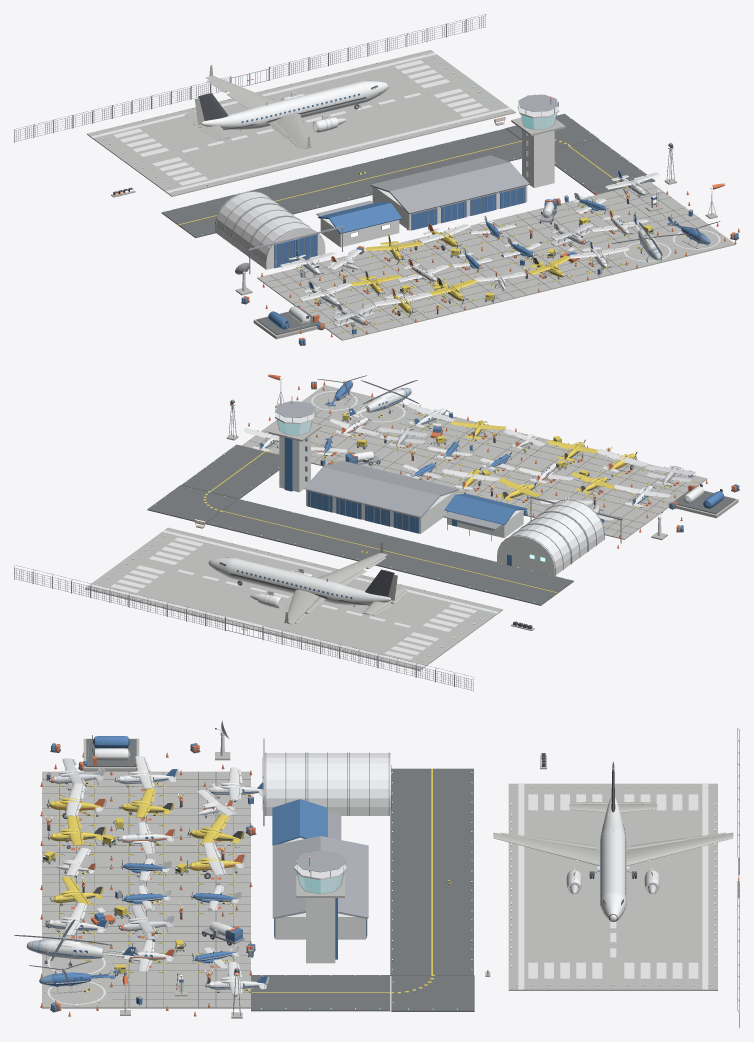
File: aircraft-fleet-and-airfield-working-airf-78cd49ec-starter-scene.glb
3 renders of one model, top to bottom at view 1: azimuth 30°, elevation 25°; view 2: azimuth 150°, elevation 25°; view 3: azimuth 270°, elevation 25°, orthographic. The views are drawn at different scales.
Visible parts, largest first — view 1: 046-t-hangar-row/1, 096-narrowbody-twinjet/0, 001-runway-slab/0, 005-runway-slab/0, 000-runway-threshold/0, 006-runway-threshold/0, 004-runway-slab/0, 002-runway-slab/0, 047-control-tower/0, 046-t-hangar-row/2, 003-runway-slab/0, 009-taxiway-slab/0 (+45 smaller); view 2: 046-t-hangar-row/1, 096-narrowbody-twinjet/0, 001-runway-slab/0, 005-runway-slab/0, 000-runway-threshold/0, 006-runway-threshold/0, 004-runway-slab/0, 002-runway-slab/0, 014-taxiway-turn/0, 046-t-hangar-row/2, 007-taxiway-slab/0, 009-taxiway-slab/0 (+44 smaller); view 3: 005-runway-slab/0, 004-runway-slab/0, 001-runway-slab/0, 006-runway-threshold/0, 046-t-hangar-row/1, 003-runway-slab/0, 000-runway-threshold/0, 096-narrowbody-twinjet/0, 002-runway-slab/0, 014-taxiway-turn/0, 096-narrowbody-twinjet/1, 015-taxiway-slab/0 (+59 smaller).
Boxes of the visible parts, <box> form: 046-t-hangar-row/1: <box>370,155,529,229</box>; 096-narrowbody-twinjet/0: <box>201,81,388,132</box>; 001-runway-slab/0: <box>136,110,270,184</box>; 005-runway-slab/0: <box>333,62,466,136</box>; 000-runway-threshold/0: <box>87,122,220,196</box>; 006-runway-threshold/0: <box>382,50,515,124</box>; 004-runway-slab/0: <box>283,74,417,148</box>; 002-runway-slab/0: <box>185,98,319,172</box>; 047-control-tower/0: <box>517,105,559,187</box>; 046-t-hangar-row/2: <box>411,187,525,230</box>; 003-runway-slab/0: <box>255,86,368,160</box>; 009-taxiway-slab/0: <box>260,176,342,213</box>; 046-t-hangar-row/1: <box>304,460,458,532</box>; 096-narrowbody-twinjet/0: <box>208,558,390,608</box>; 001-runway-slab/0: <box>324,586,454,658</box>; 005-runway-slab/0: <box>133,539,262,612</box>; 000-runway-threshold/0: <box>372,597,502,670</box>; 006-runway-threshold/0: <box>85,527,215,600</box>; 004-runway-slab/0: <box>181,551,311,623</box>; 002-runway-slab/0: <box>276,575,406,647</box>; 014-taxiway-turn/0: <box>147,485,237,523</box>; 046-t-hangar-row/2: <box>307,491,418,533</box>; 007-taxiway-slab/0: <box>493,569,573,605</box>; 009-taxiway-slab/0: <box>397,545,477,582</box>; 005-runway-slab/0: <box>508,930,717,960</box>; 004-runway-slab/0: <box>508,901,717,930</box>; 001-runway-slab/0: <box>508,813,717,842</box>; 006-runway-threshold/0: <box>508,960,717,990</box>; 046-t-hangar-row/1: <box>272,836,368,935</box>; 003-runway-slab/0: <box>508,872,717,901</box>; 000-runway-threshold/0: <box>508,783,717,812</box>; 096-narrowbody-twinjet/0: <box>566,797,659,921</box>; 002-runway-slab/0: <box>508,842,717,871</box>; 014-taxiway-turn/0: <box>391,975,474,1011</box>; 096-narrowbody-twinjet/1: <box>493,804,733,865</box>; 015-taxiway-slab/0: <box>320,975,390,1011</box>.
Bounding box in the file's own units: 97 × 17.02 × 104.
